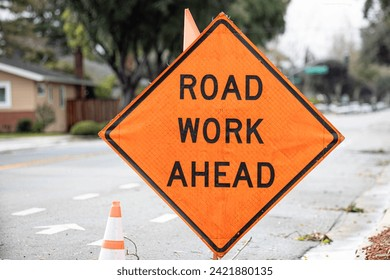Road_workahead: (100, 13, 347, 255)
